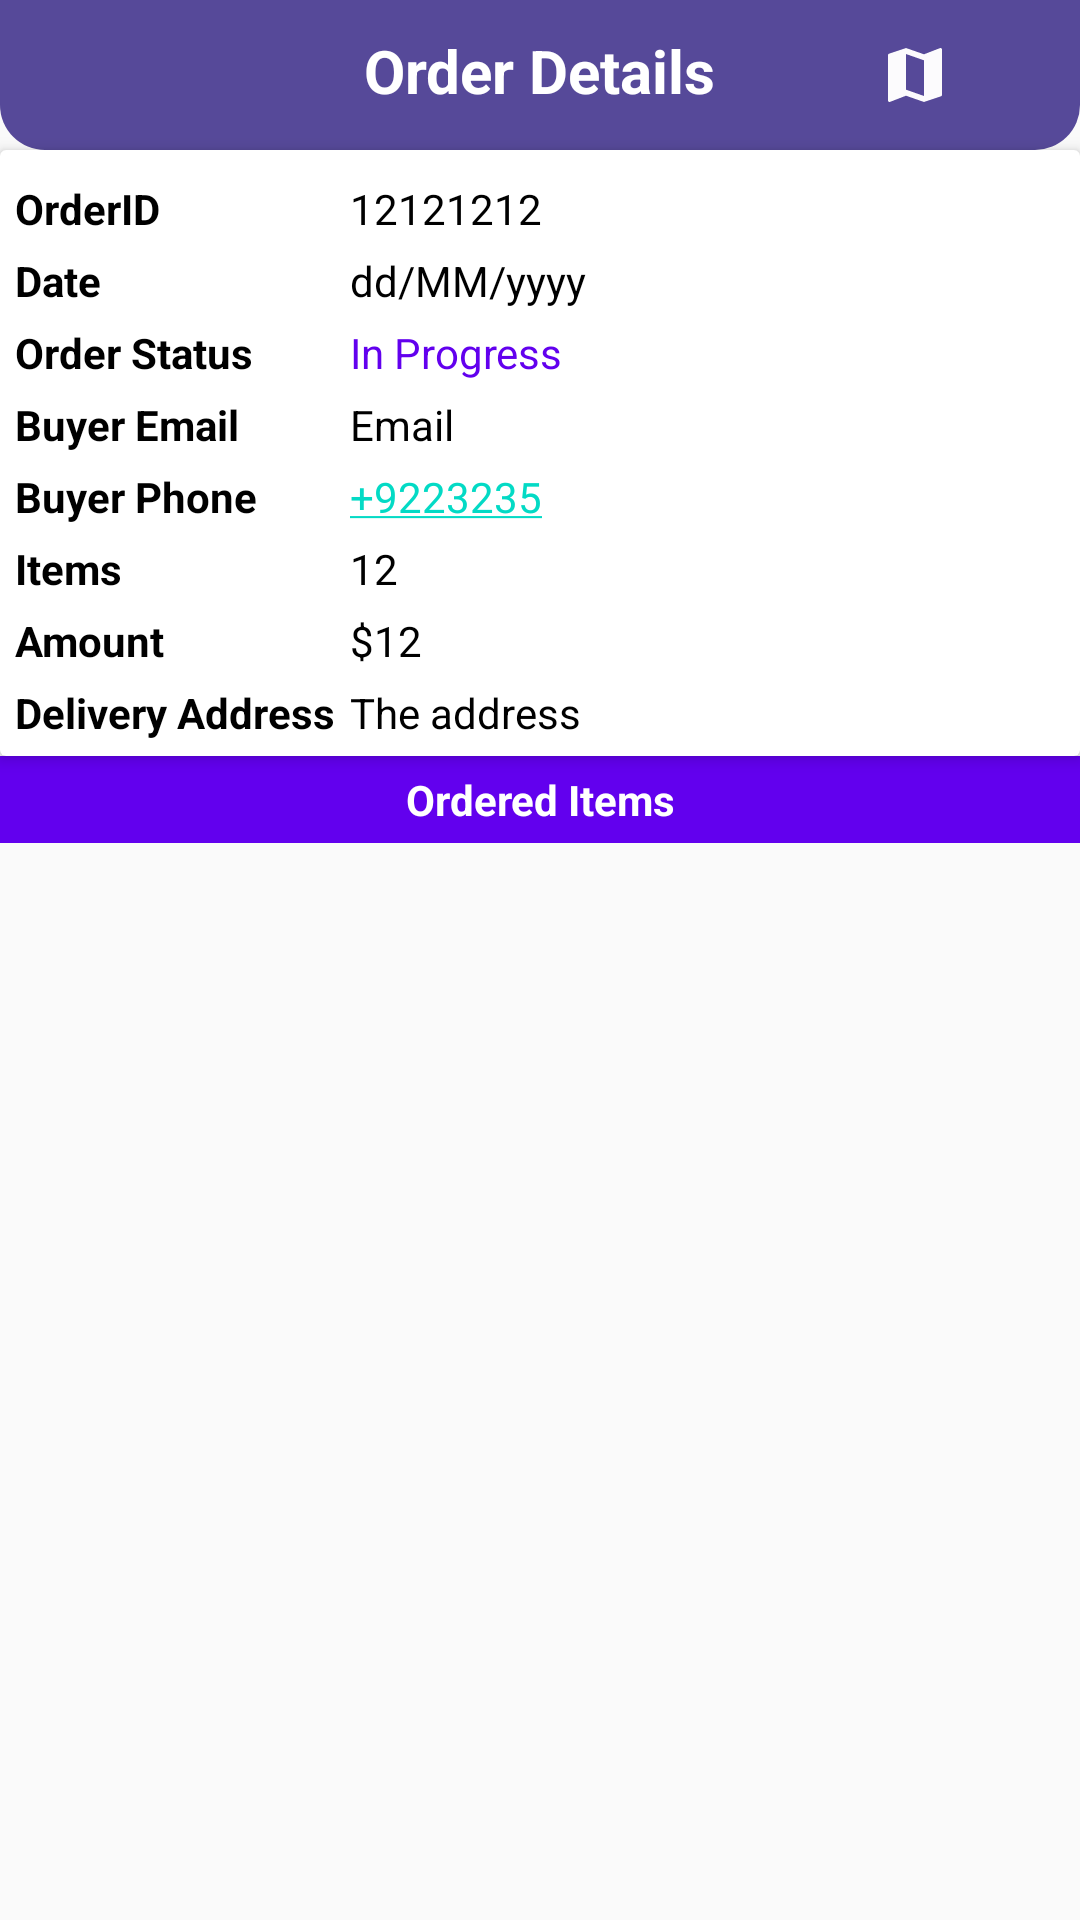

Where to tap for icons on this 1080 x 1920 app screen, as (x,y):
map: (915,75)
